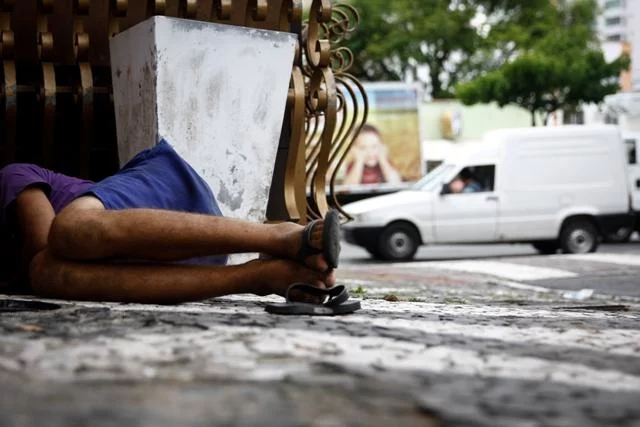Humano: (1, 139, 355, 304)
